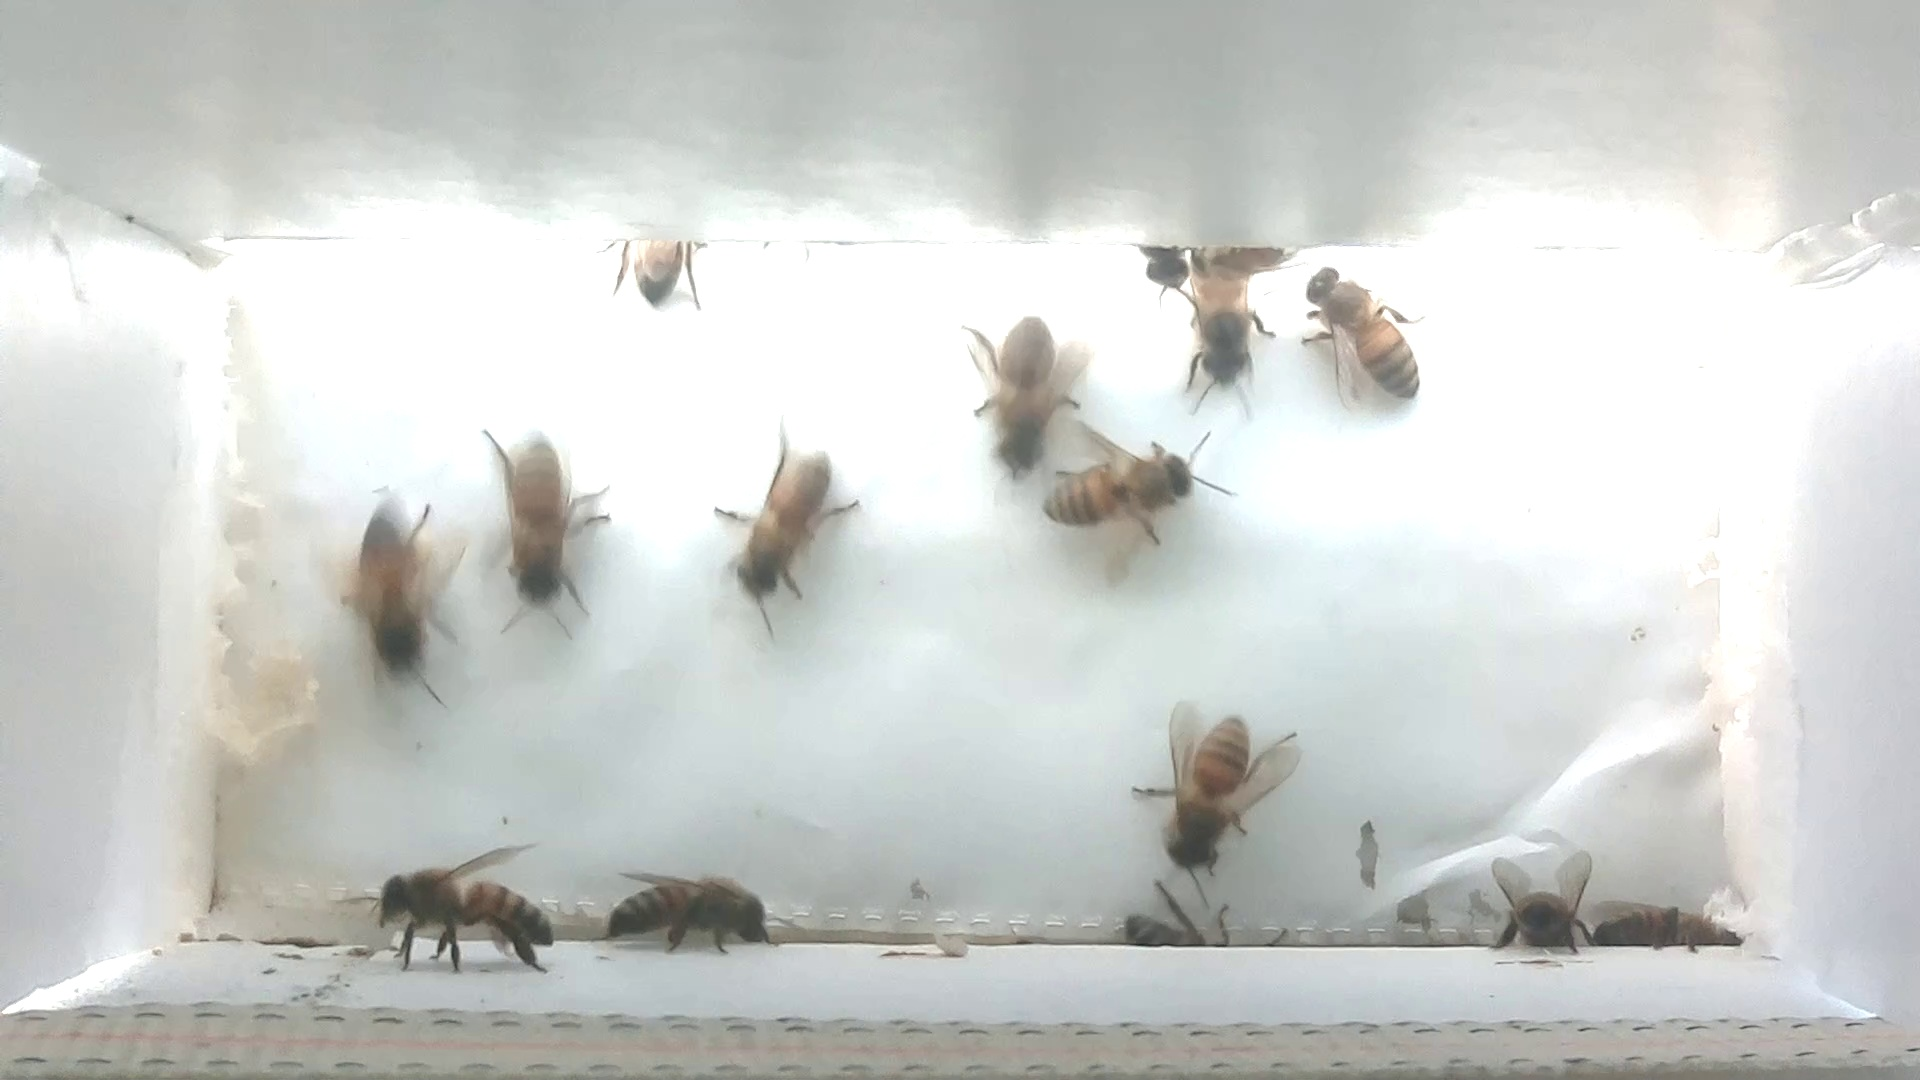bee: (1130, 688, 1309, 880), (324, 491, 473, 705), (709, 418, 864, 611), (356, 844, 574, 980), (465, 419, 615, 615), (1036, 419, 1225, 550), (1291, 261, 1433, 430), (589, 858, 793, 975), (949, 305, 1084, 476), (1175, 249, 1280, 419), (1474, 841, 1596, 957), (597, 229, 721, 330), (1596, 895, 1741, 961), (1124, 229, 1208, 323)
